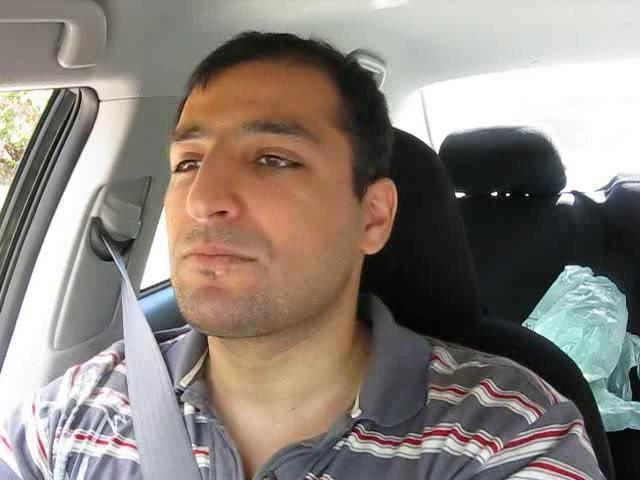no_yawn: (162, 232, 269, 286)
open_eyeL: (160, 144, 216, 187)
open_eyeR: (234, 137, 322, 188)
